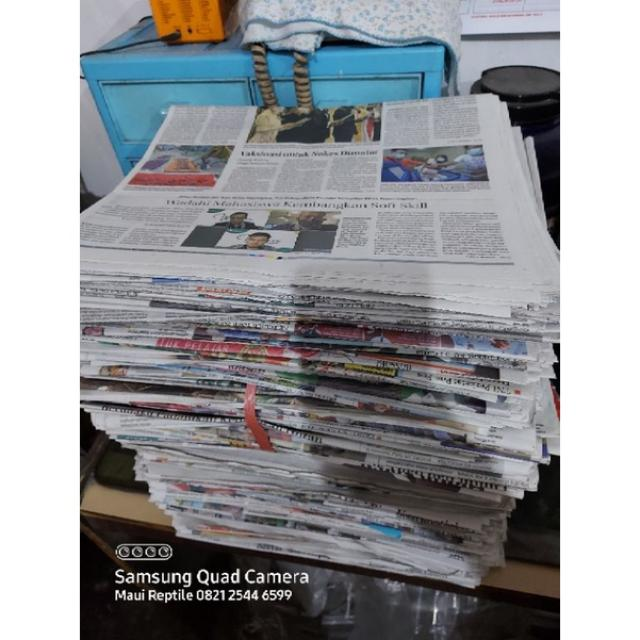Koran: (80, 0, 560, 569)
